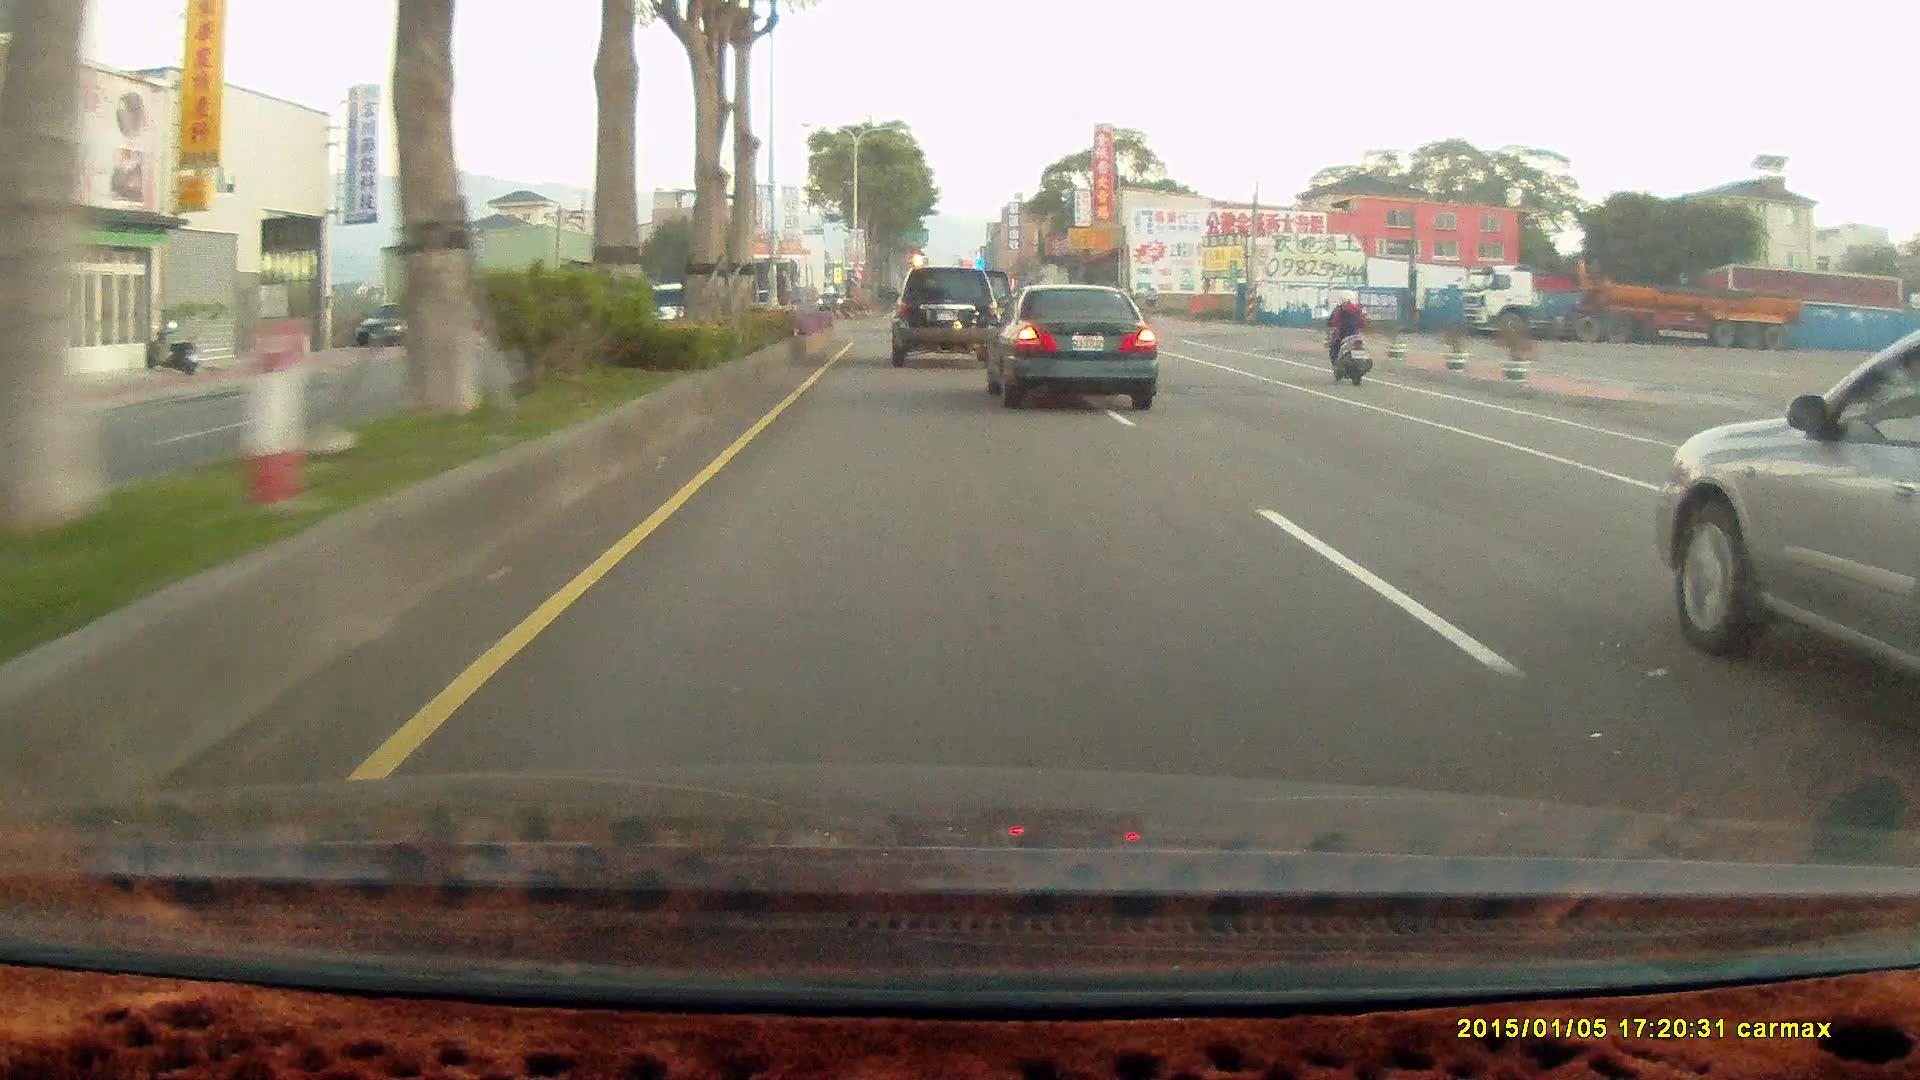rider: (1314, 283, 1381, 391), (1317, 288, 1372, 385)
vehicle: (1653, 318, 1920, 699), (1454, 266, 1797, 351), (981, 281, 1159, 411), (982, 286, 1154, 408), (885, 267, 998, 368), (890, 263, 999, 366), (356, 299, 432, 351), (356, 299, 431, 347)
